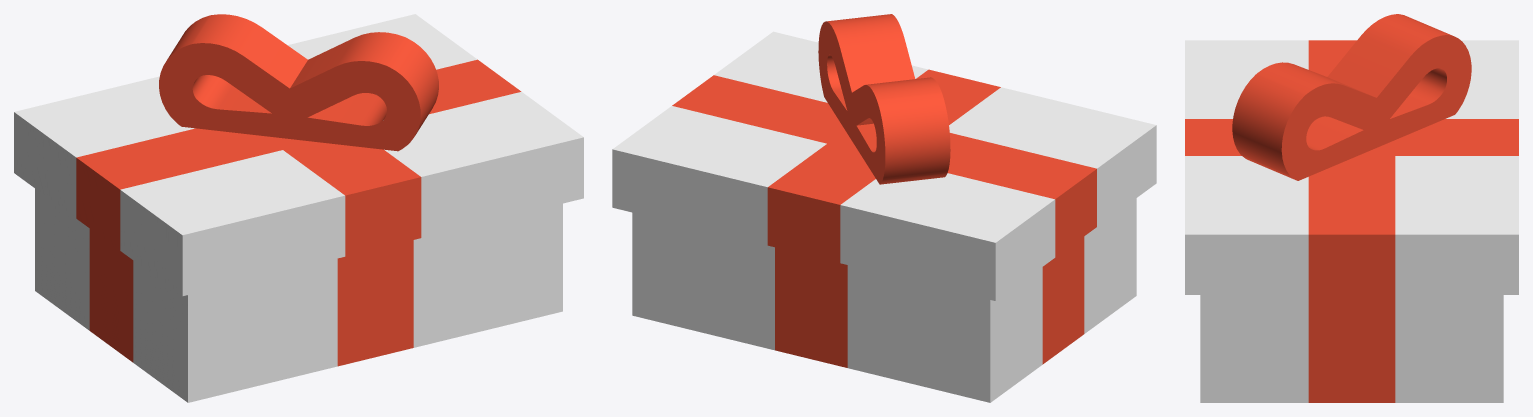
File: presentLow.fbx
The picture shows the model from 3 angles, left to right: view 1: azimuth 30°, elevation 25°; view 2: azimuth 150°, elevation 25°; view 3: azimuth 270°, elevation 25°; orthographic projection. The views are drawn at different scales.
Parts seen in each view (by area): view 1: lid, presentLow, tie; view 2: lid, presentLow, tie; view 3: lid, presentLow, tie.
Boxes of the visible parts, x1,y1,x2,y2 form: lid: [14, 14, 583, 296]; presentLow: [35, 188, 562, 402]; tie: [159, 14, 438, 151]; lid: [612, 31, 1156, 300]; presentLow: [632, 198, 1136, 402]; tie: [818, 14, 950, 184]; lid: [1185, 40, 1518, 294]; presentLow: [1200, 295, 1503, 402]; tie: [1232, 14, 1471, 180].
Size of the model in its own units: 5.13 by 3.21 by 3.73.
